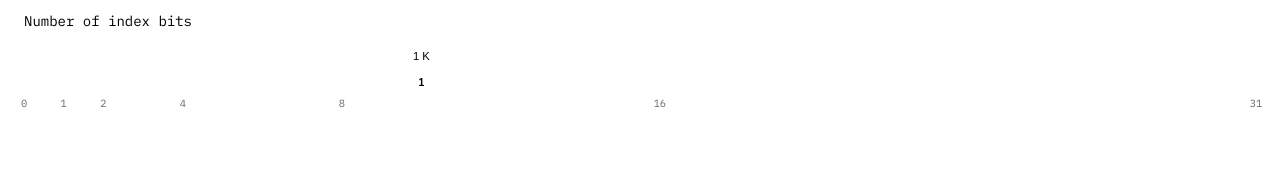
Test: HierarchySlider context menu › opens on right-click with an option to convert to Harvard, labeled with the level name
Right-click the button named "L1, 1 K" at [421, 82], box [407,68,435,96]
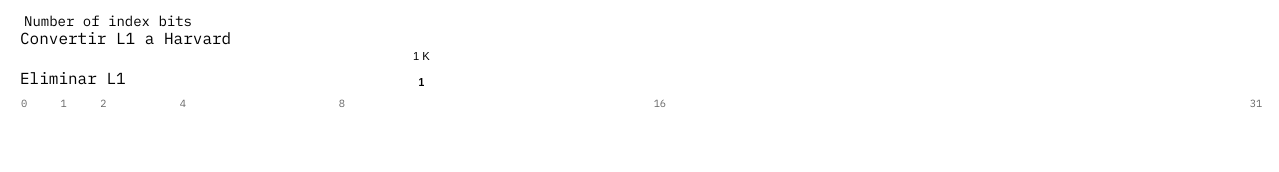
Check: the button "Convertir L1 a Harvard" is shown, box [8,20,243,56]
Check: the button "Eliminar L1" is shown, box [8,60,243,96]
